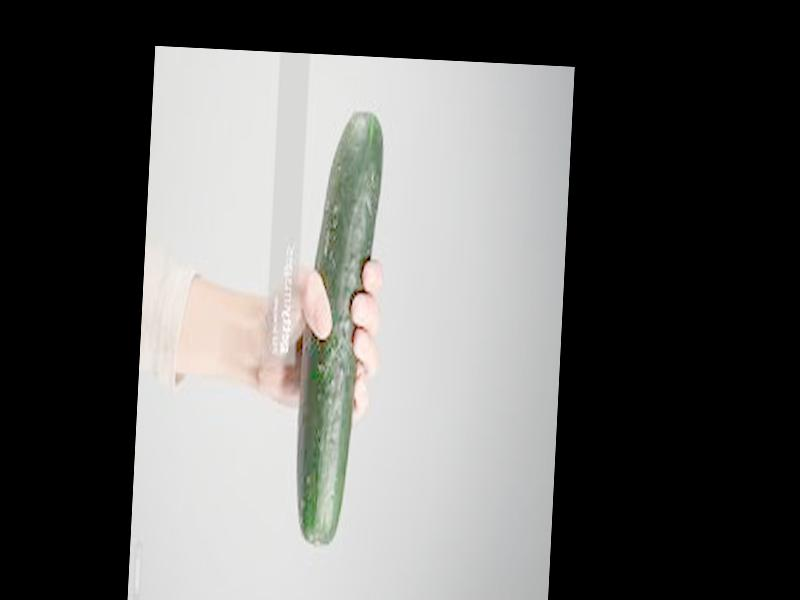Cucumber: (292, 109, 385, 540)
